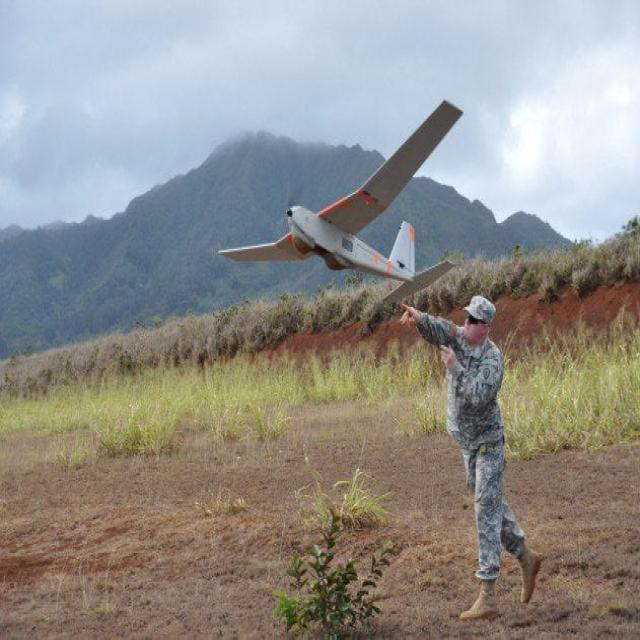iha: (202, 90, 449, 300)
